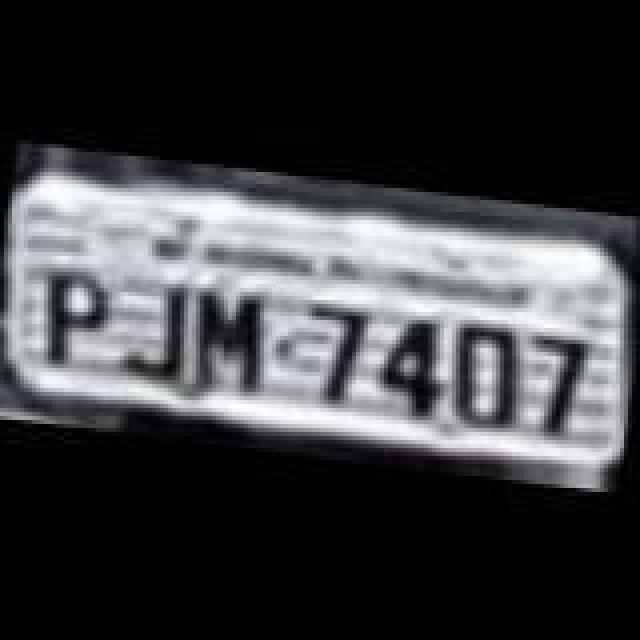4: (372, 310, 456, 426)
7: (520, 326, 596, 442), (292, 302, 368, 410)
J: (120, 276, 196, 380)
M: (186, 286, 274, 402)
O: (448, 320, 524, 432)
P: (30, 264, 110, 376)
